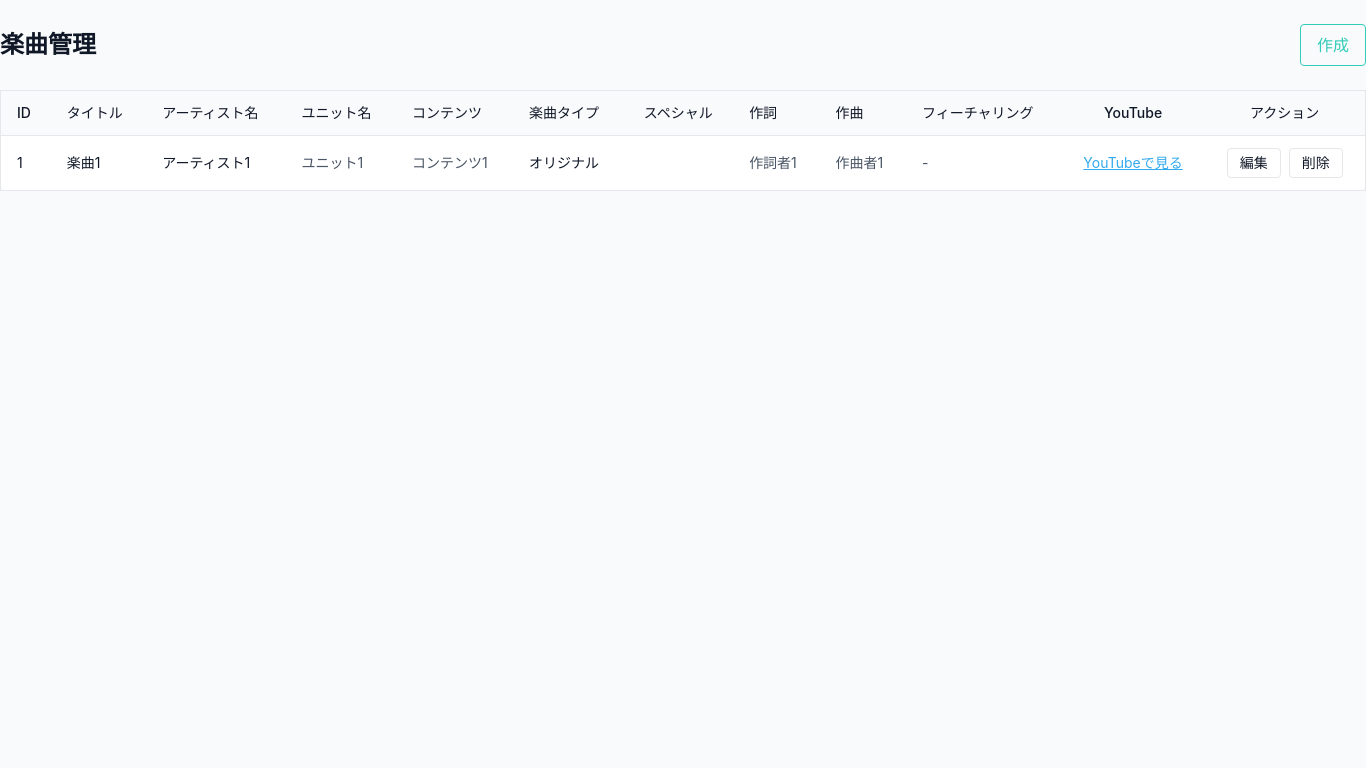
MusicListPage › 新規登録ボタンをクリックしたときにフォームが表示される
Click the button with test id "create-music-button" at (1333, 45), box x1=1300 y1=24 x2=1365 y2=66
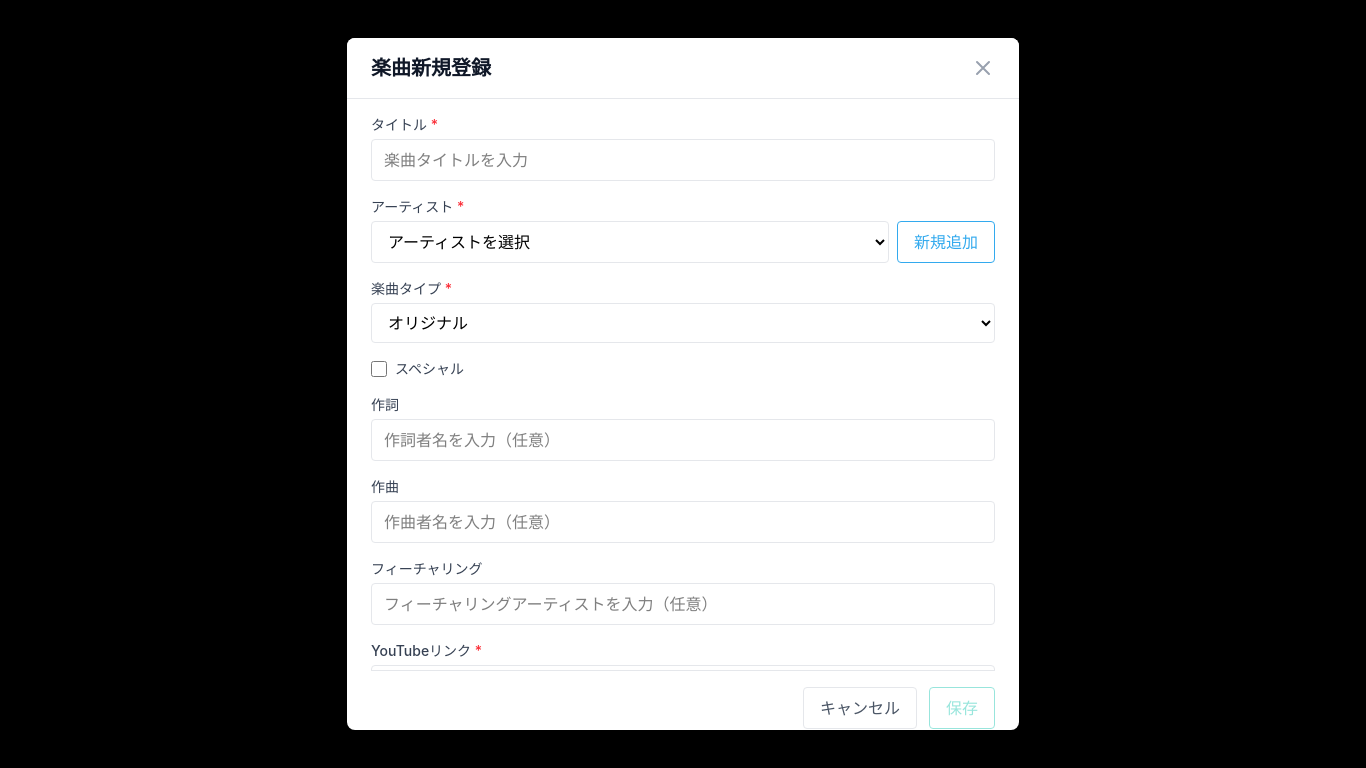
Now the element with test id "music-form-modal" is shown
